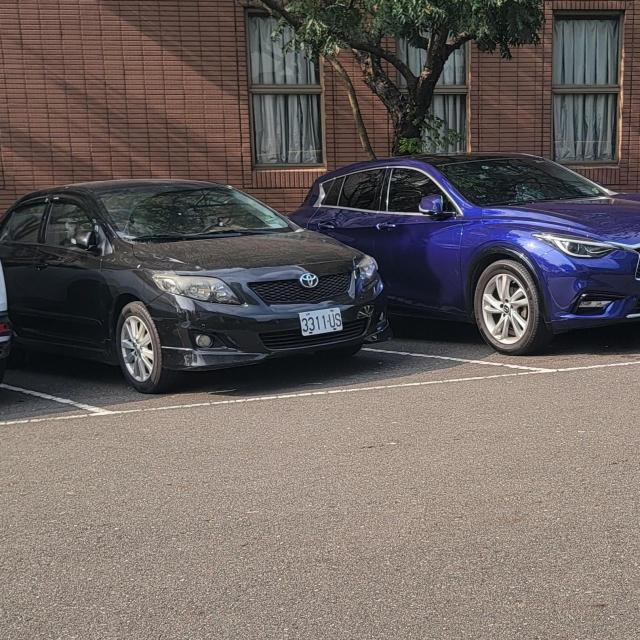W: (296, 306, 346, 338)
